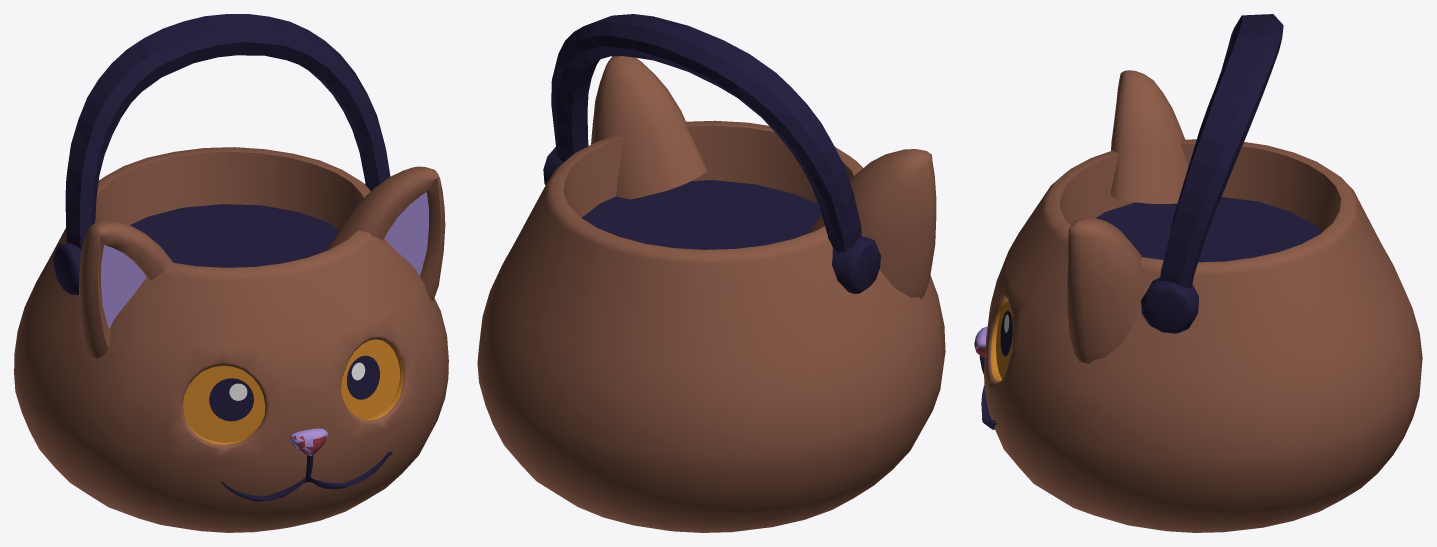
The model's file is EVHalloween_PumpkinTreatPail_Variant3.fbx.
3 renders of one model, left to right at view 1: azimuth 30°, elevation 25°; view 2: azimuth 150°, elevation 25°; view 3: azimuth 270°, elevation 25°, orthographic. The views are drawn at different scales.
Visible parts, largest first — view 1: EVHalloween_Decor_PumpkinOrange; view 2: EVHalloween_Decor_PumpkinOrange; view 3: EVHalloween_Decor_PumpkinOrange.
Part boxes in pixels (box(x1,y1,x2,y2)): EVHalloween_Decor_PumpkinOrange: box(14, 14, 448, 532); EVHalloween_Decor_PumpkinOrange: box(477, 14, 945, 532); EVHalloween_Decor_PumpkinOrange: box(974, 14, 1422, 532).
Size of the model in its own units: 30.91 by 34.3 by 31.16.
